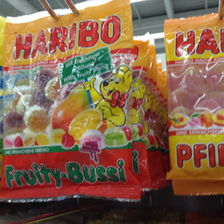candy: (1, 1, 131, 201), (163, 17, 224, 188)
